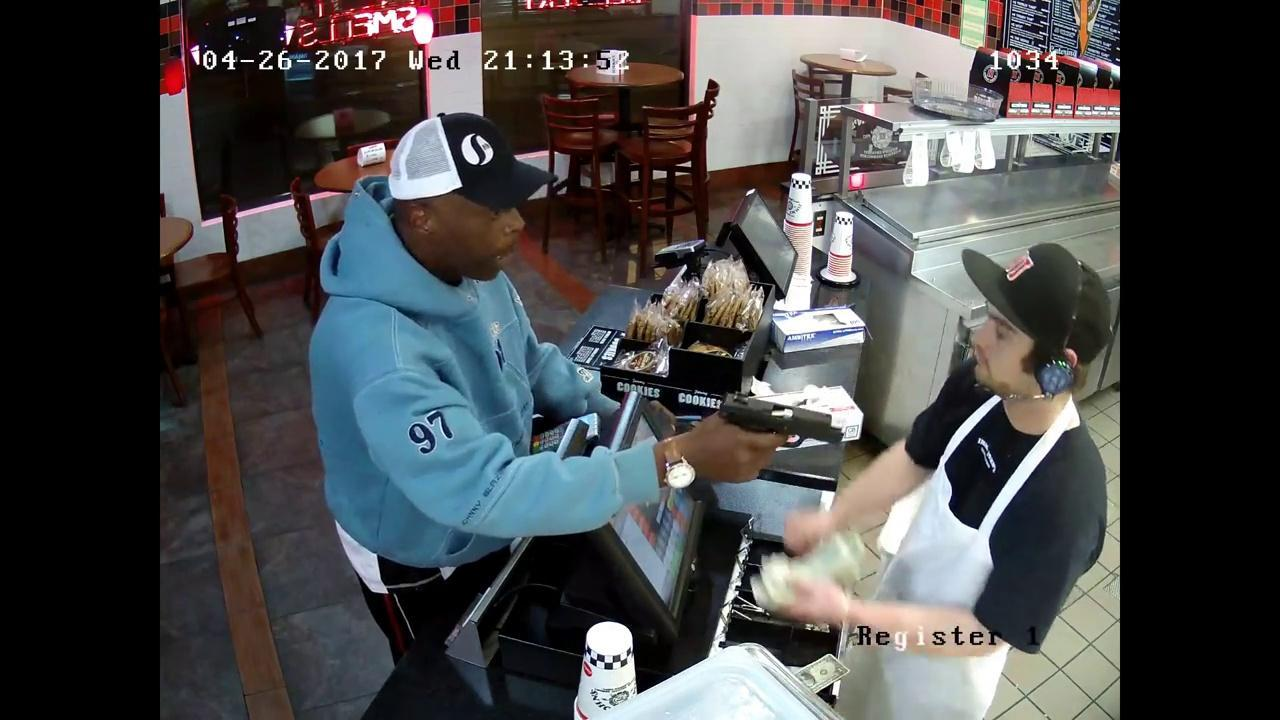Guns: (691, 370, 861, 480)
